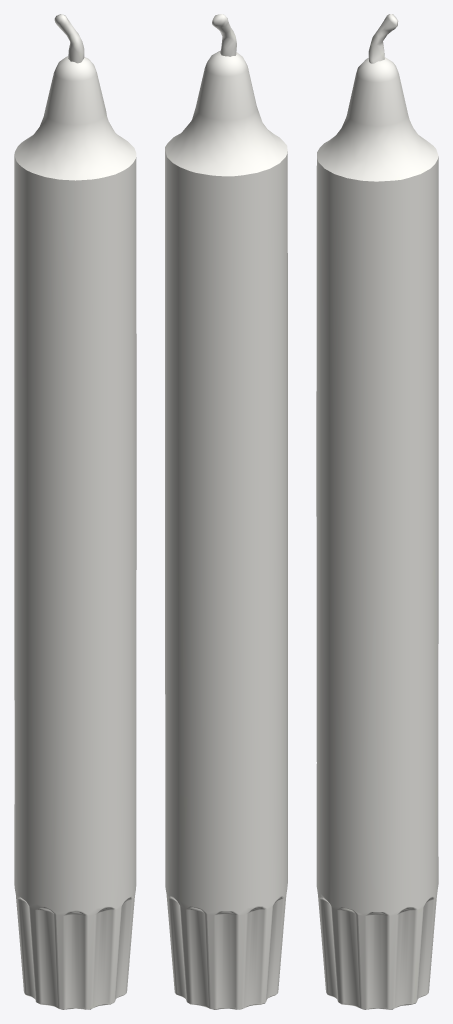
3 renders of one model, left to right at view 1: azimuth 90°, elevation 25°; view 2: azimuth 150°, elevation 25°; view 3: azimuth 270°, elevation 25°, orthographic.
Visible parts, largest first — view 1: 60191916-JUBLA001; view 2: 60191916-JUBLA001; view 3: 60191916-JUBLA001.
Boxes of the visible parts, left/top/right/bottom form: 60191916-JUBLA001: left=14, top=14, right=136, bottom=1009; 60191916-JUBLA001: left=165, top=14, right=287, bottom=1009; 60191916-JUBLA001: left=316, top=14, right=438, bottom=1009.
Size of the model in its own units: 0.0227 by 0.1988 by 0.0226.
Materials: 1 (1 with a texture image).
